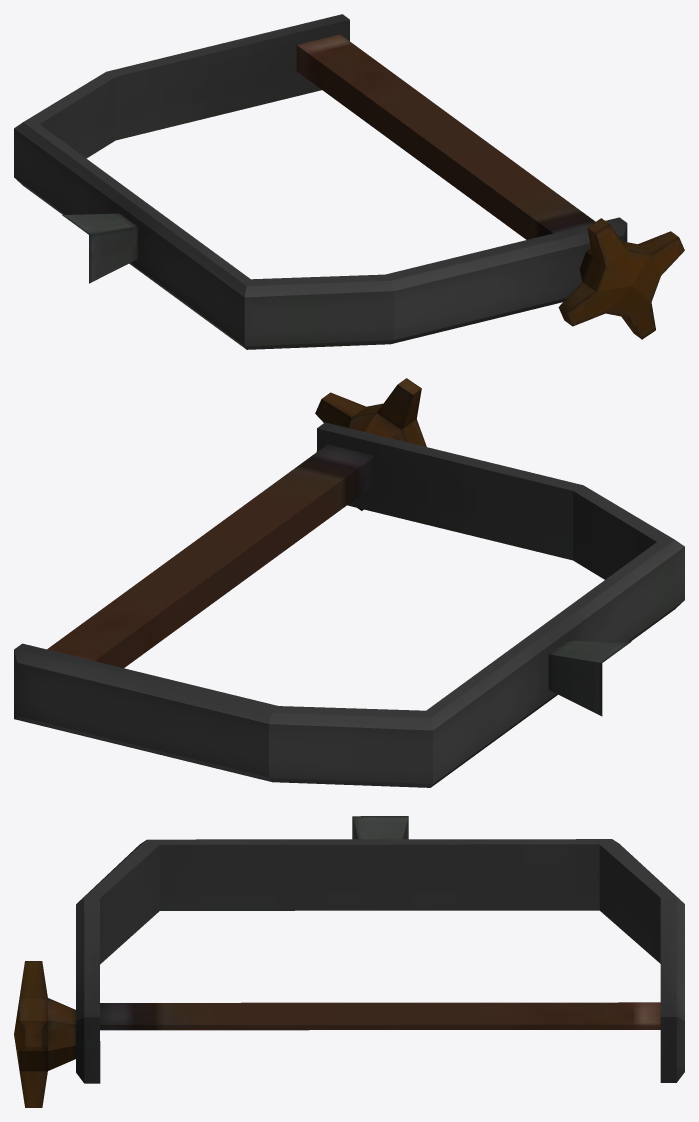
3 renders of one model, top to bottom at view 1: azimuth 30°, elevation 25°; view 2: azimuth 150°, elevation 25°; view 3: azimuth 270°, elevation 25°, orthographic. The views are drawn at different scales.
Visible parts, largest first — view 1: body0_model0_lod0_mesh0; view 2: body0_model0_lod0_mesh0; view 3: body0_model0_lod0_mesh0.
Part boxes in pixels (x1,y1,x2,y2): body0_model0_lod0_mesh0: [14, 14, 684, 349]; body0_model0_lod0_mesh0: [14, 378, 684, 787]; body0_model0_lod0_mesh0: [14, 816, 684, 1107].
Bounding box in the file's own units: 20.01 × 5.38 × 25.47.
Materials: 1 (1 with a texture image).
